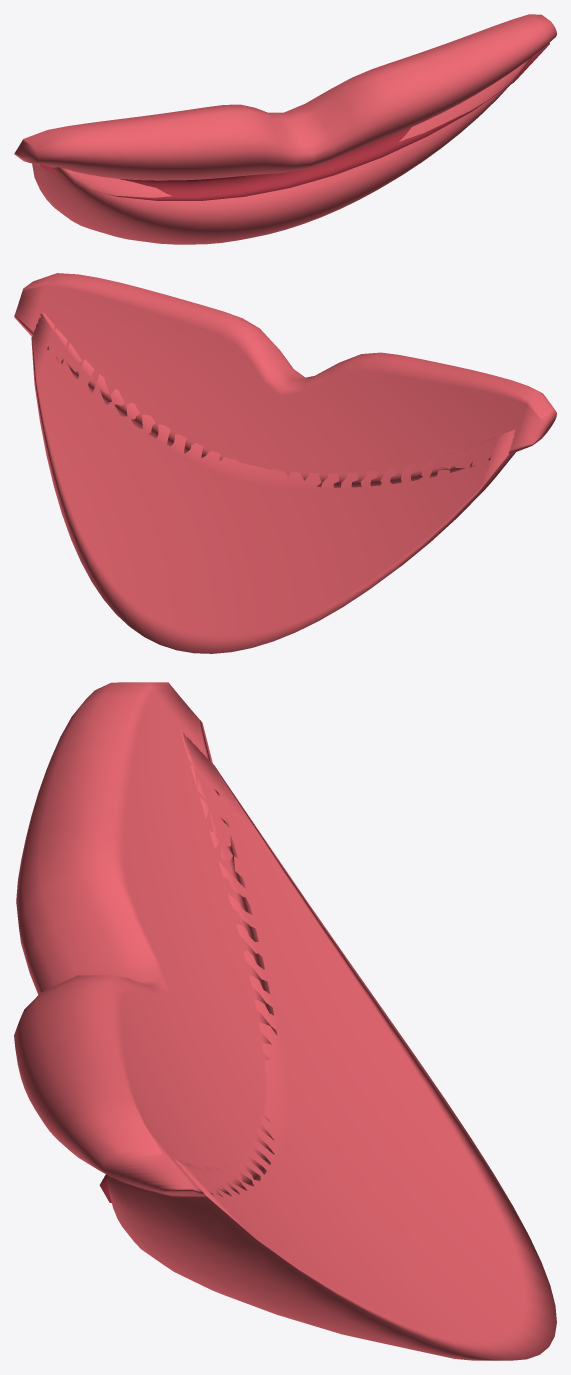
The model's file is mouth-smile.glb.
3 renders of one model, top to bottom at view 1: azimuth 30°, elevation 25°; view 2: azimuth 150°, elevation 25°; view 3: azimuth 270°, elevation 25°, orthographic. The views are drawn at different scales.
Parts seen in each view (by area): view 1: upperlip, lowerlip, parting; view 2: lowerlip, upperlip; view 3: lowerlip, upperlip.
Part boxes in pixels (<box>): upperlip: <box>14,14,556,180</box>; lowerlip: <box>32,57,532,244</box>; parting: <box>40,43,549,200</box>; lowerlip: <box>31,312,515,653</box>; upperlip: <box>14,273,556,487</box>; lowerlip: <box>107,730,556,1360</box>; upperlip: <box>14,682,277,1197</box>.
Bounding box in the file's own units: 0.155 × 0.0654 × 0.0758.
